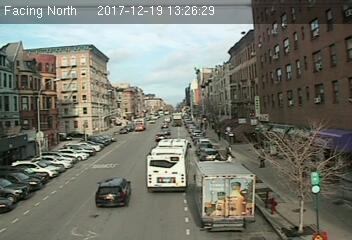bus: (146, 137, 191, 191)
car: (95, 176, 131, 204)
truck: (194, 160, 255, 235)
